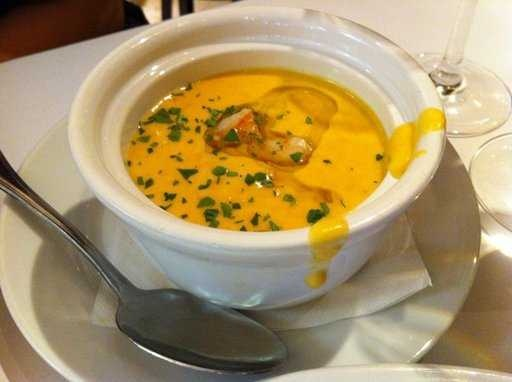soup: (87, 24, 436, 261)
